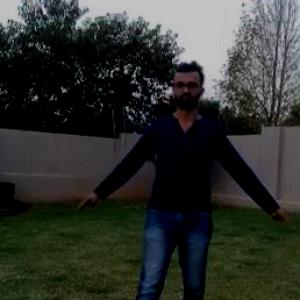land: (68, 65, 282, 299)
